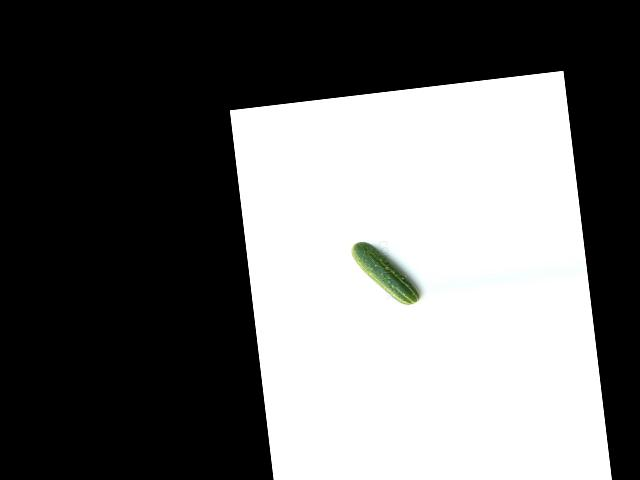cucumber: (350, 236, 420, 311)
